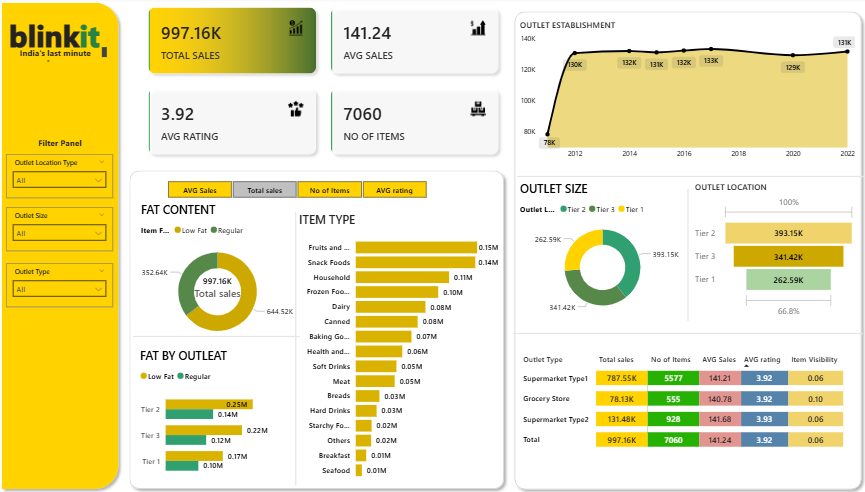

What the dashboard file says about the page in this screenshot:
{"tool":"powerbi","page":{"name":"Page 1","canvas":[1400,800],"ordinal":0},"visuals":[{"type":"shape","box":[0,0,205.8,799.2],"z":0},{"type":"textbox","box":[16.5,23.9,170.9,101],"z":1000},{"type":"textbox","box":[16.5,75.3,167.2,33.1],"z":2000},{"type":"cardVisual","fields":{"Data":["BlinkIT Grocery Data.Total sales","BlinkIT Grocery Data.AVG Sales","BlinkIT Grocery Data.AVG rating","BlinkIT Grocery Data.No of Items"]},"box":[227.8,0,597.1,270.1],"z":3000},{"type":"shape","box":[205.8,270.1,619.2,529.1],"z":4000},{"type":"donutChart","title":"FAT CONTENT","fields":{"Y":["BlinkIT Grocery Data.Total sales"],"Category":["BlinkIT Grocery Data.Item Fat Content"]},"box":[227.8,328.9,255.4,235.2],"z":5000},{"type":"slicer","fields":{"Values":["Metrics.Metrics"]},"box":[249.9,288.5,464.8,40.4],"z":6000},{"type":"cardVisual","fields":{"Data":["BlinkIT Grocery Data.Total sales"]},"box":[297.6,429.9,117.6,68],"z":7000},{"type":"clusteredBarChart","title":"FAT BY OUTLEAT","fields":{"Y":["BlinkIT Grocery Data.Total sales"],"Category":["BlinkIT Grocery Data.Outlet Location Type"],"Series":["BlinkIT Grocery Data.Item Fat Content"]},"box":[226,564,229.7,220.5],"z":8000},{"type":"shape","box":[220.1,525.3,268.3,40.2],"z":9000},{"type":"shape","box":[446.5,345.4,69.8,439.1],"z":10000},{"type":"barChart","title":"ITEM TYPE","fields":{"Y":["BlinkIT Grocery Data.Total sales"],"Category":["BlinkIT Grocery Data.Item Type"]},"box":[481.4,345.4,330.7,439.1],"z":11000},{"type":"shape","box":[824.1,14.5,575.1,785.5],"z":12000},{"type":"lineChart","title":"OUTLET ESTABLISHMENT","fields":{"Y":["BlinkIT Grocery Data.Total sales"],"Category":["BlinkIT Grocery Data.Outlet Establishment Year"]},"box":[836.9,35.3,547.8,234.5],"z":13000},{"type":"shape","box":[836.9,268.3,562.2,40.2],"z":14000},{"type":"donutChart","title":"OUTLET SIZE","fields":{"Y":["BlinkIT Grocery Data.Total sales"],"Category":["BlinkIT Grocery Data.Outlet Location Type"]},"box":[836.9,295.6,274.7,224.9],"z":15000},{"type":"shape","box":[1076.3,308.4,70.7,212],"z":16000},{"type":"funnel","title":"OUTLET LOCATION","fields":{"Category":["BlinkIT Grocery Data.Outlet Location Type"],"Y":["Sum(BlinkIT Grocery Data.Sales)"]},"box":[1118.1,295.6,266.7,224.9],"z":17000},{"type":"shape","box":[830.5,520.5,562.2,40.2],"z":18000},{"type":"pivotTable","fields":{"Values":["BlinkIT Grocery Data.Total sales","BlinkIT Grocery Data.No of Items","BlinkIT Grocery Data.AVG Sales","BlinkIT Grocery Data.AVG rating","Avg(BlinkIT Grocery Data.Item Visibility)"],"Rows":["BlinkIT Grocery Data.Outlet Type"]},"box":[836.9,565.5,547.8,218.5],"z":19000},{"type":"slicer","fields":{"Values":["BlinkIT Grocery Data.Outlet Location Type"]},"box":[16.1,252.2,171.9,70.7],"z":20000},{"type":"slicer","fields":{"Values":["BlinkIT Grocery Data.Outlet Size"]},"box":[16.1,337.3,171.9,70.7],"z":21000},{"type":"slicer","fields":{"Values":["BlinkIT Grocery Data.Outlet Type"]},"box":[16.1,427.3,171.9,70.7],"z":22000},{"type":"textbox","box":[17.7,220.1,170.3,32.1],"z":23000}]}

Visuals, with their boxes in screenshot pixels (x1, y1, x2, y2), scaled from the page's 1400x800 canvas onto the 865x492 screenshot:
shape: 0, 0, 127, 491
textbox: 10, 15, 116, 77
textbox: 10, 46, 114, 67
cardVisual - BlinkIT Grocery Data.Total sales x BlinkIT Grocery Data.AVG Sales: 141, 0, 510, 166
shape: 127, 166, 510, 491
"FAT CONTENT" donutChart: 141, 202, 299, 347
slicer - Metrics.Metrics: 154, 177, 442, 202
cardVisual - BlinkIT Grocery Data.Total sales: 184, 264, 257, 306
"FAT BY OUTLEAT" clusteredBarChart: 140, 347, 282, 482
shape: 136, 323, 302, 348
shape: 276, 212, 319, 482
"ITEM TYPE" barChart: 297, 212, 502, 482
shape: 509, 9, 864, 491
"OUTLET ESTABLISHMENT" lineChart: 517, 22, 856, 166
shape: 517, 165, 864, 190
"OUTLET SIZE" donutChart: 517, 182, 687, 320
shape: 665, 190, 709, 320
"OUTLET LOCATION" funnel: 691, 182, 856, 320
shape: 513, 320, 860, 345
pivotTable - BlinkIT Grocery Data.Total sales x BlinkIT Grocery Data.No of Items: 517, 348, 856, 482
slicer - BlinkIT Grocery Data.Outlet Location Type: 10, 155, 116, 199
slicer - BlinkIT Grocery Data.Outlet Size: 10, 207, 116, 251
slicer - BlinkIT Grocery Data.Outlet Type: 10, 263, 116, 306
textbox: 11, 135, 116, 155
